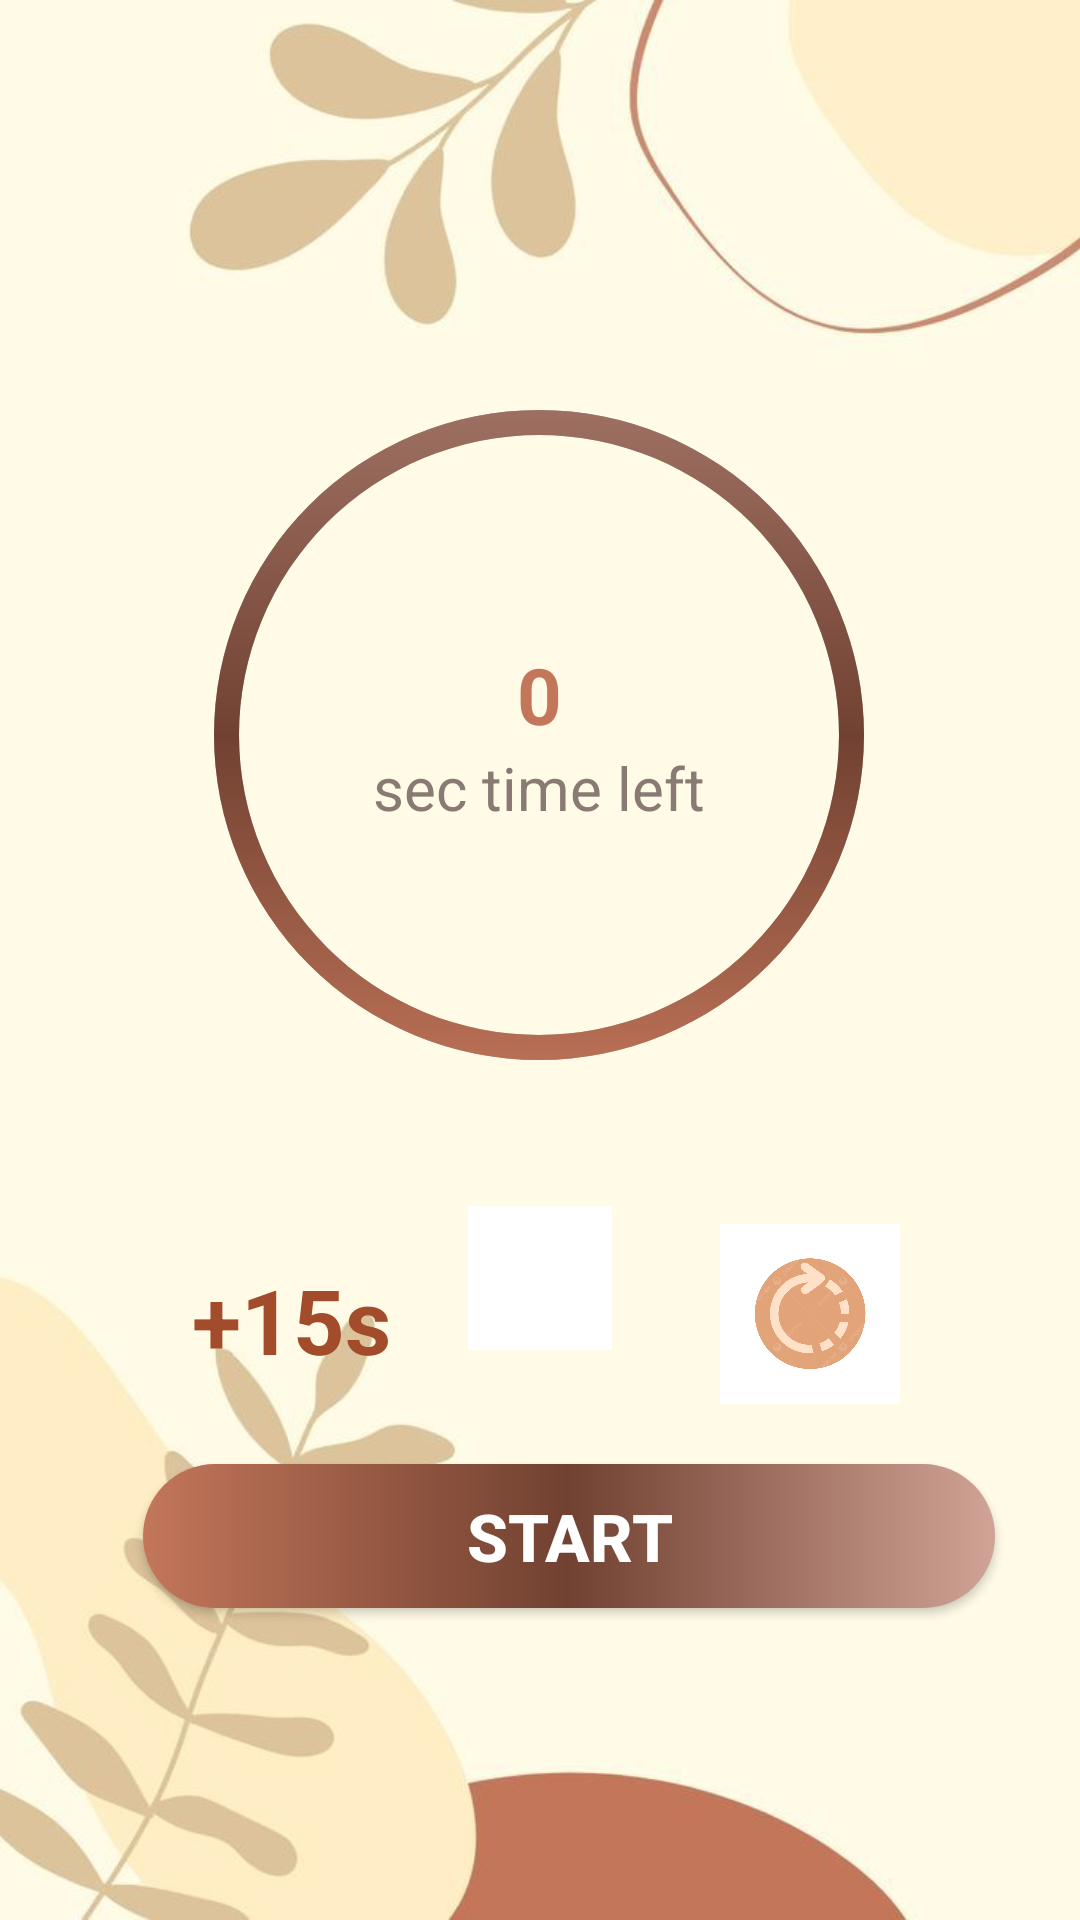

Screen size 1080 x 1920. Icon name, then its box in pixels as (x1, y1, x2, y2):
Reset Timer: (755, 1258, 866, 1369)
